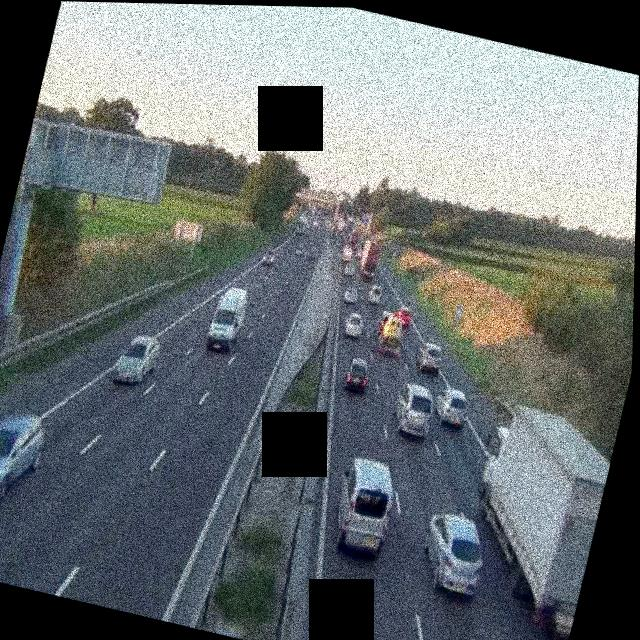car: (326, 455, 402, 559), (414, 507, 494, 598), (0, 401, 50, 511), (110, 330, 163, 389), (388, 380, 437, 440), (432, 385, 472, 430), (375, 315, 407, 357), (413, 340, 446, 376), (342, 356, 372, 394), (342, 311, 365, 339), (393, 305, 413, 328), (343, 285, 359, 306), (368, 284, 384, 304), (261, 248, 276, 266), (294, 242, 306, 257), (308, 245, 319, 260)
truck: (447, 398, 618, 639), (205, 280, 252, 354), (356, 237, 381, 278), (341, 242, 356, 265), (294, 214, 308, 235)
